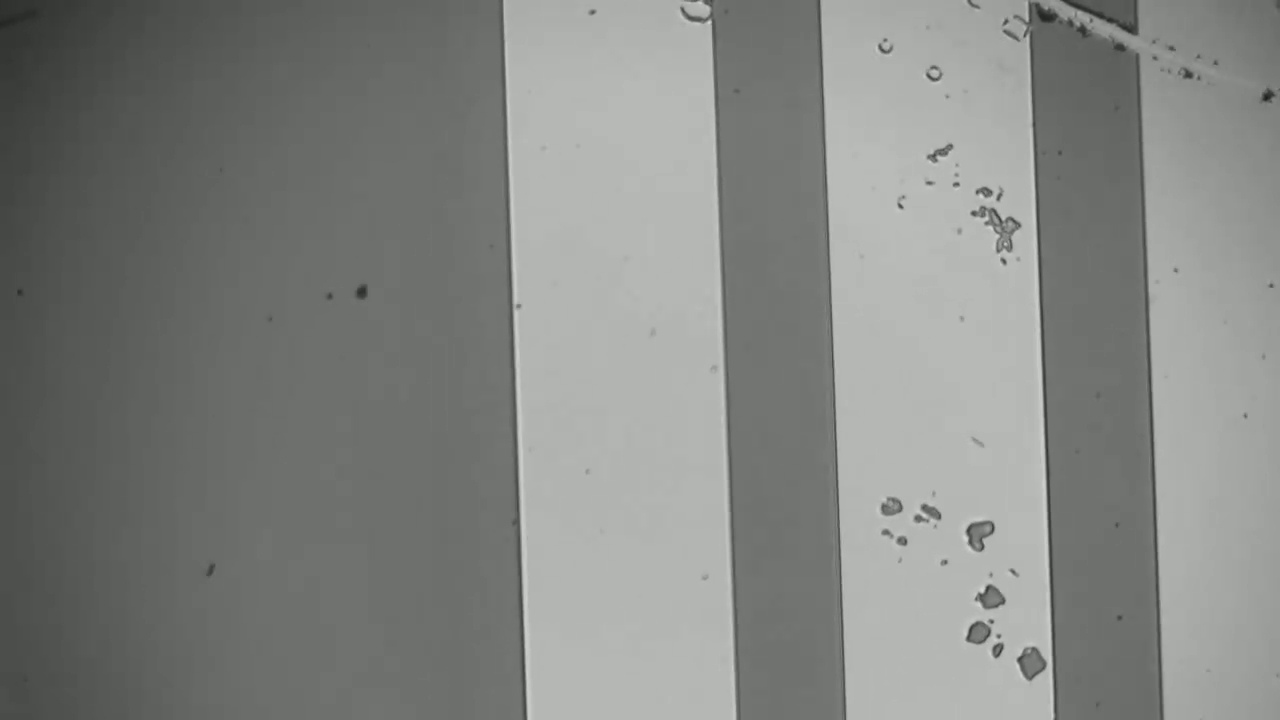Short_circuit: (985, 1, 1183, 101)
